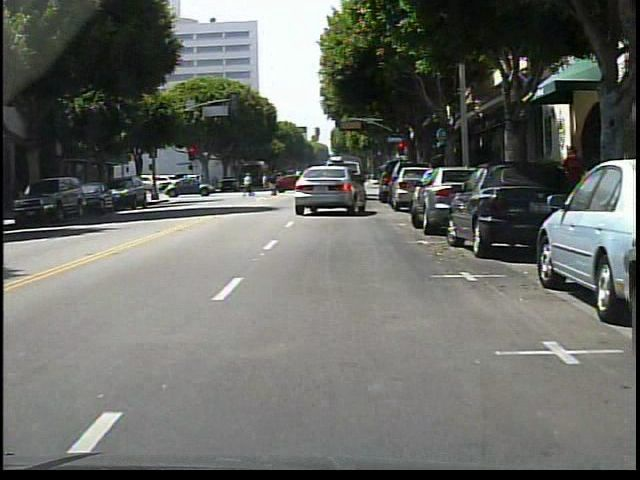person: (561, 142, 588, 216), (243, 171, 257, 196), (270, 169, 282, 197), (264, 174, 265, 190)
